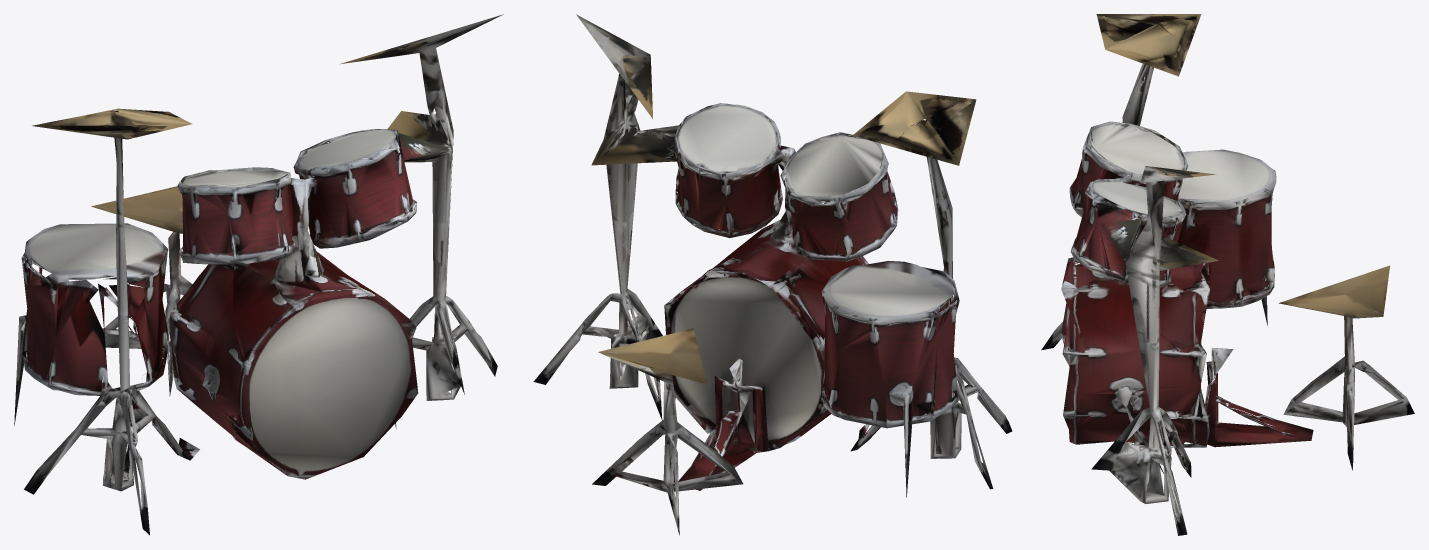
The model's file is Prop_Drum_Kit_02.glb.
The picture shows the model from 3 angles, left to right: view 1: azimuth 30°, elevation 25°; view 2: azimuth 150°, elevation 25°; view 3: azimuth 270°, elevation 25°; orthographic projection. The views are drawn at different scales.
Parts seen in each view (by area): view 1: mesh_node; view 2: mesh_node; view 3: mesh_node.
Boxes of the visible parts, x1,y1,x2,y2 form: mesh_node: [14, 14, 503, 535]; mesh_node: [533, 14, 1012, 535]; mesh_node: [1041, 14, 1414, 535].
Size of the model in its own units: 1.97 by 1.49 by 1.45.
1 material, 1 textured.
